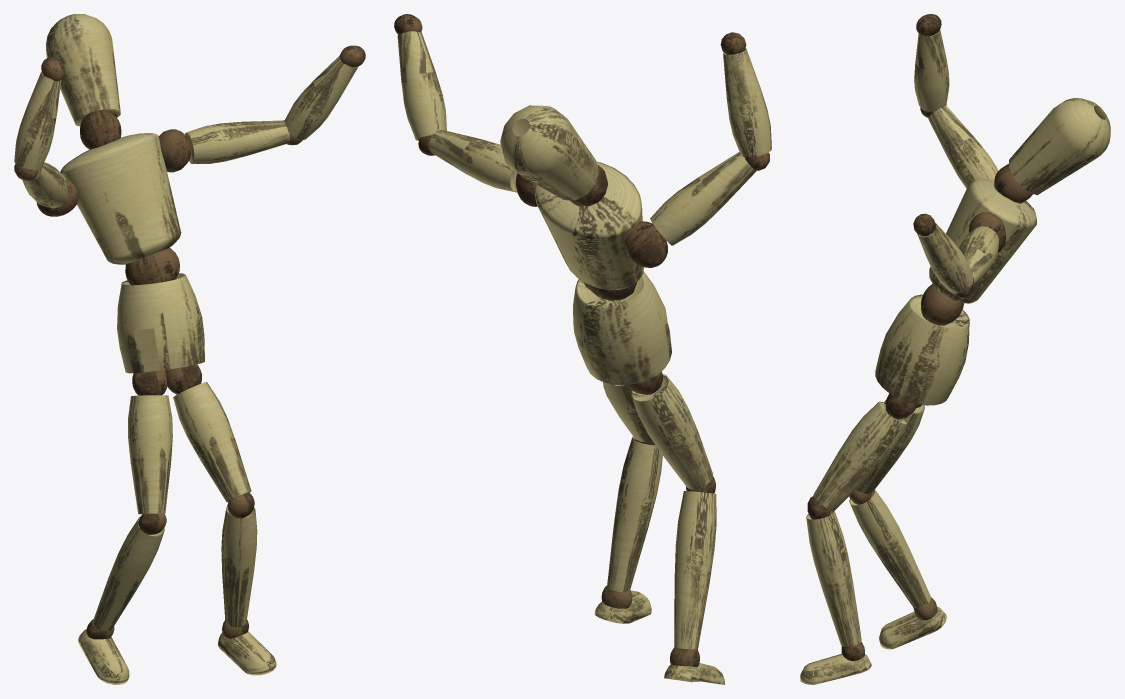
The model's file is pose2.obj.
The picture shows the model from 3 angles, left to right: view 1: azimuth 30°, elevation 25°; view 2: azimuth 150°, elevation 25°; view 3: azimuth 270°, elevation 25°; orthographic projection. The views are drawn at different scales.
Parts seen in each view (by area): view 1: polySurface3 polySurface6, polySurface4 polySurface3, polySurface3 polySurface8, polySurface3 polySurface14, polySurface3 polySurface20, polySurface3 polySurface17, polySurface3 polySurface29, polySurface3 polySurface11, polySurface3 polySurface22, polySurface3 polySurface27, polySurface3 polySurface9, polySurface3 polySurface15 (+8 smaller); view 2: polySurface4 polySurface3, polySurface3 polySurface6, polySurface3 polySurface8, polySurface3 polySurface11, polySurface3 polySurface17, polySurface3 polySurface14, polySurface3 polySurface24, polySurface3 polySurface27, polySurface3 polySurface22, polySurface3 polySurface29, polySurface3 polySurface25, polySurface3 polySurface20 (+3 smaller); view 3: polySurface4 polySurface3, polySurface3 polySurface8, polySurface3 polySurface20, polySurface3 polySurface6, polySurface3 polySurface17, polySurface3 polySurface11, polySurface3 polySurface24, polySurface3 polySurface22, polySurface3 polySurface27, polySurface3 polySurface9, polySurface3 polySurface29, polySurface3 polySurface15 (+5 smaller).
Boxes of the visible parts, bbox=[...] form: polySurface3 polySurface6: bbox=[60, 133, 181, 264]; polySurface4 polySurface3: bbox=[117, 273, 204, 373]; polySurface3 polySurface8: bbox=[46, 14, 120, 126]; polySurface3 polySurface14: bbox=[128, 395, 172, 514]; polySurface3 polySurface20: bbox=[173, 382, 251, 502]; polySurface3 polySurface17: bbox=[221, 505, 257, 627]; polySurface3 polySurface29: bbox=[185, 120, 289, 163]; polySurface3 polySurface11: bbox=[93, 517, 164, 631]; polySurface3 polySurface22: bbox=[14, 71, 61, 169]; polySurface3 polySurface27: bbox=[284, 55, 358, 139]; polySurface3 polySurface9: bbox=[78, 629, 129, 684]; polySurface3 polySurface15: bbox=[218, 631, 276, 675]; polySurface4 polySurface3: bbox=[573, 271, 671, 385]; polySurface3 polySurface6: bbox=[534, 161, 643, 290]; polySurface3 polySurface8: bbox=[500, 105, 598, 200]; polySurface3 polySurface11: bbox=[674, 491, 716, 649]; polySurface3 polySurface17: bbox=[607, 436, 662, 592]; polySurface3 polySurface14: bbox=[631, 374, 713, 489]; polySurface3 polySurface24: bbox=[650, 152, 756, 245]; polySurface3 polySurface27: bbox=[397, 31, 446, 140]; polySurface3 polySurface22: bbox=[723, 48, 771, 157]; polySurface3 polySurface29: bbox=[429, 129, 517, 192]; polySurface3 polySurface25: bbox=[624, 221, 667, 267]; polySurface3 polySurface20: bbox=[603, 382, 651, 441]; polySurface4 polySurface3: bbox=[875, 294, 969, 405]; polySurface3 polySurface8: bbox=[1009, 98, 1110, 195]; polySurface3 polySurface20: bbox=[813, 401, 907, 511]; polySurface3 polySurface6: bbox=[929, 178, 1036, 303]; polySurface3 polySurface17: bbox=[806, 511, 861, 647]; polySurface3 polySurface11: bbox=[849, 490, 931, 608]; polySurface3 polySurface24: bbox=[928, 106, 998, 188]; polySurface3 polySurface22: bbox=[914, 29, 949, 112]; polySurface3 polySurface27: bbox=[917, 222, 973, 293]; polySurface3 polySurface9: bbox=[879, 606, 946, 649]; polySurface3 polySurface29: bbox=[959, 226, 999, 285]; polySurface3 polySurface15: bbox=[800, 654, 871, 684].
Size of the model in its own units: 2.13 by 3.65 by 1.69.
1 material, 1 textured.
